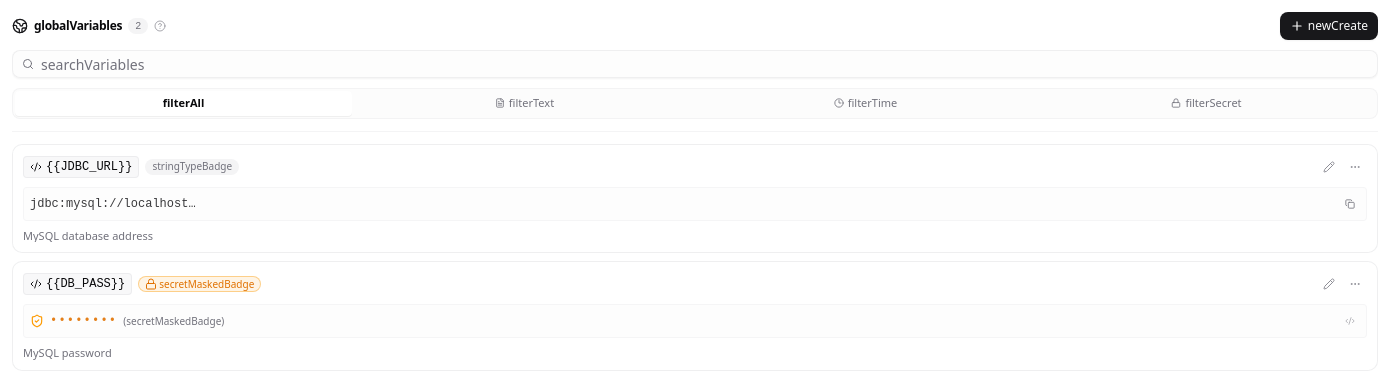
Test: GlobalVariablesSidebarPanel › filters variables by type (secret)
Click the button "filterSecret" at (1206,103), box top-left (1038, 91), bottom-right (1375, 116)
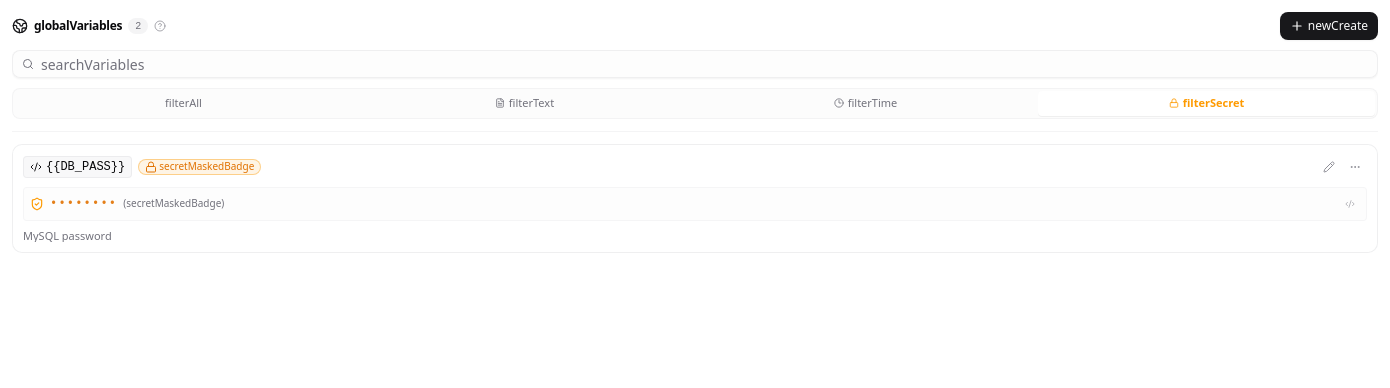
Expected: the text "{{DB_PASS}}" is shown, top-left (46, 158), bottom-right (125, 174)
Result: the button "{{JDBC_URL}}" is gone
